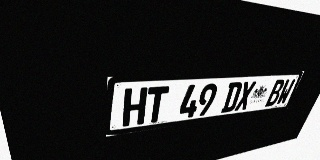4: (178, 84, 202, 119)
9: (195, 83, 219, 117)
B: (265, 79, 286, 107)
D: (220, 82, 243, 113)
H: (122, 87, 148, 127)
T: (144, 86, 169, 124)
W: (275, 79, 296, 105)
X: (234, 81, 257, 111)
